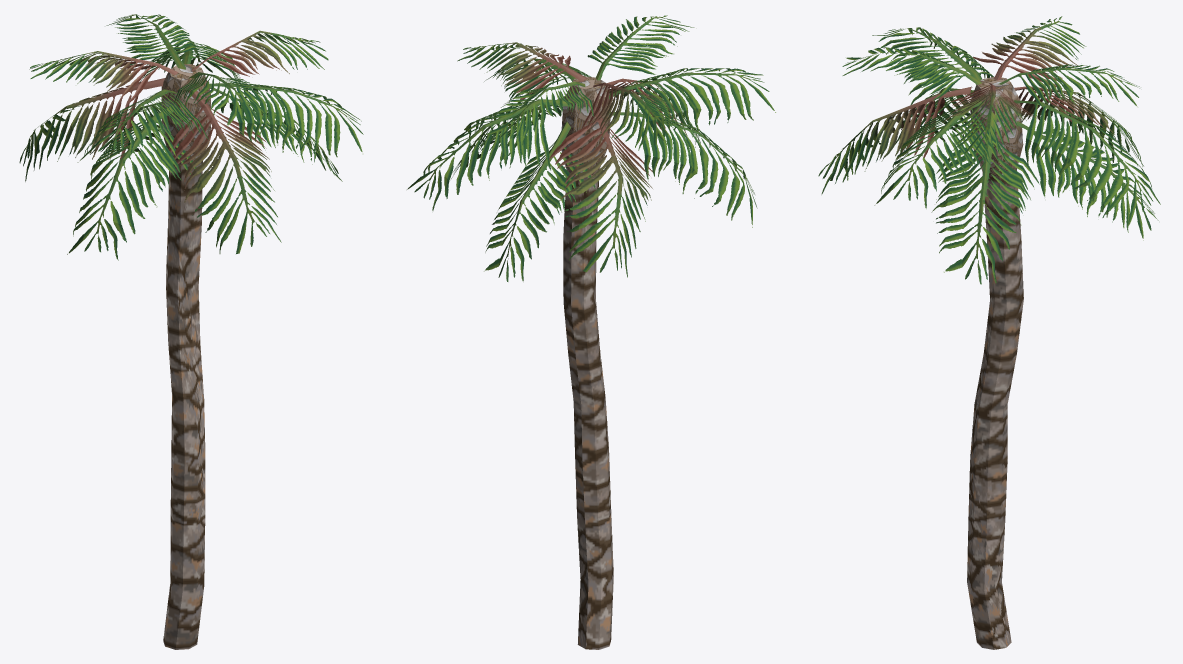
File: palm tree 4.fbx
The picture shows the model from 3 angles, left to right: view 1: azimuth 30°, elevation 25°; view 2: azimuth 150°, elevation 25°; view 3: azimuth 270°, elevation 25°; orthographic projection.
Visible parts, largest first — view 1: Cylinder, red green leaf.003, green single leaf.006, green single leaf.005, red green leaf.002, red green leaf.001, green single leaf.004, red green leaf, green single leaf.002, green single leaf.001, green single leaf, green single leaf.003; view 2: Cylinder, red green leaf.002, green single leaf.007, green single leaf.003, green single leaf.004, green single leaf.006, green single leaf.001, red green leaf.001, red green leaf, green single leaf.002, green single leaf.005, green single leaf (+1 smaller); view 3: Cylinder, green single leaf, green single leaf.003, green single leaf.005, red green leaf.003, green single leaf.007, red green leaf.001, green single leaf.004, red green leaf, red green leaf.002, green single leaf.002, green single leaf.001 (+1 smaller).
Part boxes in pixels (left/top/right/bottom): Cylinder: left=161, top=64, right=210, bottom=649; red green leaf.003: left=168, top=89, right=281, bottom=253; green single leaf.006: left=67, top=106, right=200, bottom=260; green single leaf.005: left=209, top=82, right=363, bottom=157; red green leaf.002: left=19, top=78, right=165, bottom=181; red green leaf.001: left=29, top=51, right=178, bottom=103; green single leaf.004: left=77, top=89, right=208, bottom=162; red green leaf: left=192, top=30, right=328, bottom=76; green single leaf.002: left=106, top=14, right=199, bottom=69; green single leaf.001: left=174, top=72, right=268, bottom=126; green single leaf: left=209, top=86, right=342, bottom=181; green single leaf.003: left=140, top=41, right=240, bottom=82; Cylinder: left=561, top=76, right=613, bottom=649; red green leaf.002: left=549, top=101, right=652, bottom=277; green single leaf.007: left=484, top=121, right=595, bottom=281; green single leaf.003: left=407, top=99, right=572, bottom=210; green single leaf.004: left=609, top=68, right=775, bottom=142; green single leaf.006: left=609, top=112, right=757, bottom=227; green single leaf.001: left=587, top=15, right=694, bottom=80; red green leaf.001: left=581, top=83, right=685, bottom=150; red green leaf: left=457, top=42, right=587, bottom=99; green single leaf.002: left=484, top=81, right=593, bottom=145; green single leaf.005: left=484, top=58, right=590, bottom=119; green single leaf: left=451, top=96, right=565, bottom=178; Cylinder: left=967, top=77, right=1023, bottom=649; green single leaf: left=931, top=111, right=1039, bottom=284; green single leaf.003: left=1013, top=100, right=1160, bottom=227; green single leaf.005: left=874, top=99, right=1008, bottom=208; red green leaf.003: left=818, top=86, right=972, bottom=194; green single leaf.007: left=1016, top=121, right=1158, bottom=240; red green leaf.001: left=973, top=16, right=1086, bottom=89; green single leaf.004: left=872, top=27, right=993, bottom=104; red green leaf: left=942, top=83, right=1038, bottom=154; red green leaf.002: left=1014, top=86, right=1143, bottom=166; green single leaf.002: left=998, top=64, right=1139, bottom=107; green single leaf.001: left=842, top=47, right=981, bottom=100.
Size of the model in its own units: 535 by 990 by 546.
3 materials, 3 textured.
